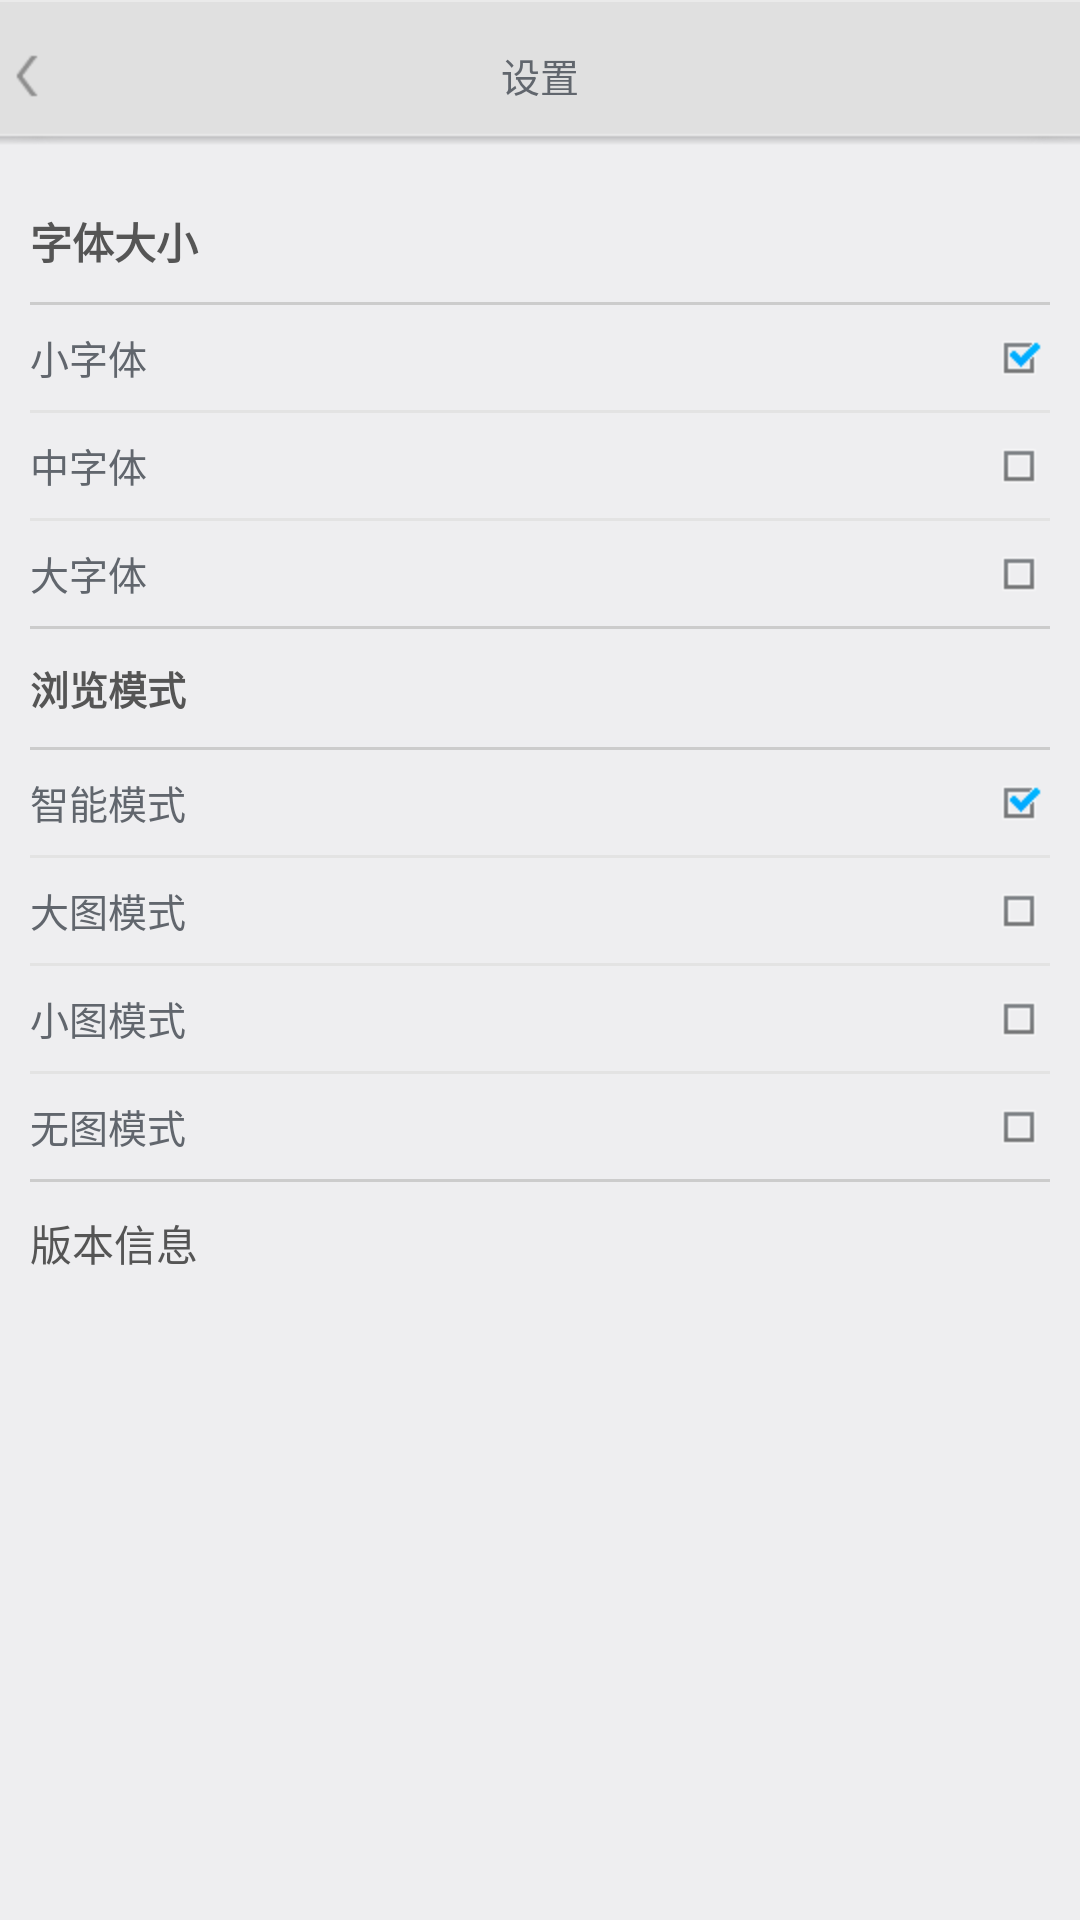

Point at icon controls on the screen. Image size 1080 × 1920, points as point (x, y).
back: point (27, 76)
